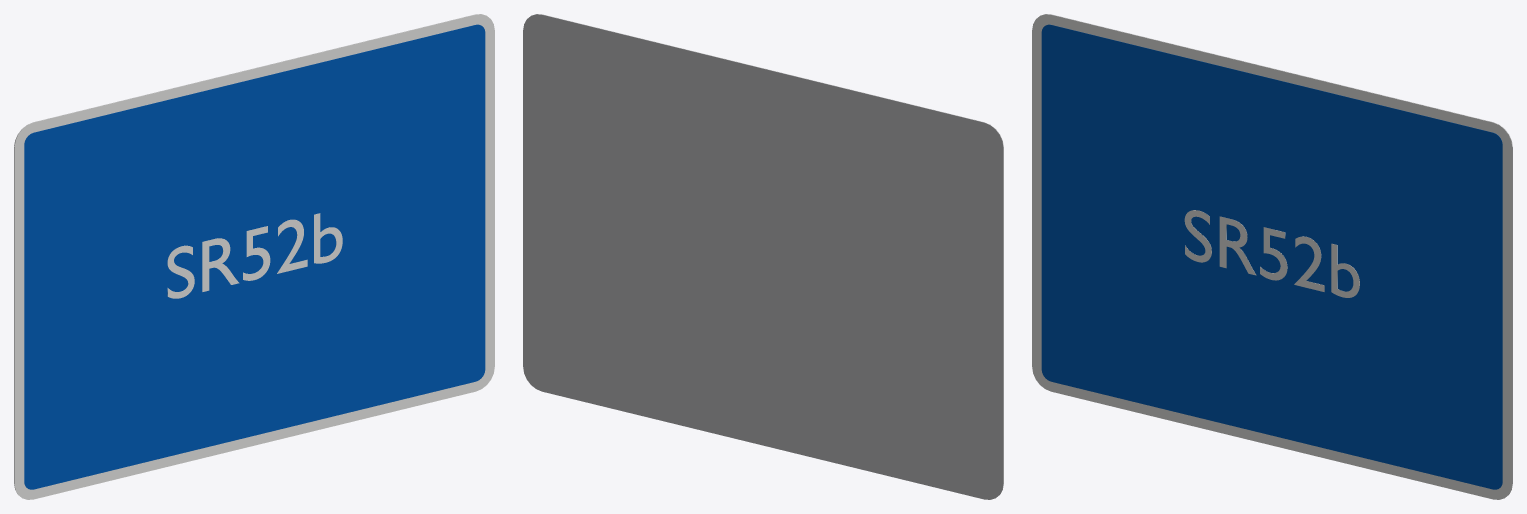
3 views of the same model, side by side, from view 1: azimuth 30°, elevation 25°; view 2: azimuth 150°, elevation 25°; view 3: azimuth 330°, elevation 25° (orthographic).
Visible parts, largest first — view 1: SR52b_fond01, SR52b_cadre00, SR52b_txt02, SR52b_dos; view 2: SR52b_dos; view 3: SR52b_fond01, SR52b_cadre00, SR52b_txt02, SR52b_dos.
Part boxes in pixels (left/top/right/bottom): SR52b_fond01: left=24, top=24, right=485, bottom=489; SR52b_cadre00: left=14, top=14, right=494, bottom=499; SR52b_txt02: left=167, top=213, right=342, bottom=298; SR52b_dos: left=14, top=14, right=483, bottom=493; SR52b_dos: left=523, top=14, right=1003, bottom=499; SR52b_fond01: left=1041, top=24, right=1502, bottom=489; SR52b_cadre00: left=1032, top=14, right=1512, bottom=499; SR52b_txt02: left=1184, top=210, right=1359, bottom=297; SR52b_dos: left=1043, top=14, right=1512, bottom=493.
Size of the model in its own units: 1 by 0.75 by 0.0025.
